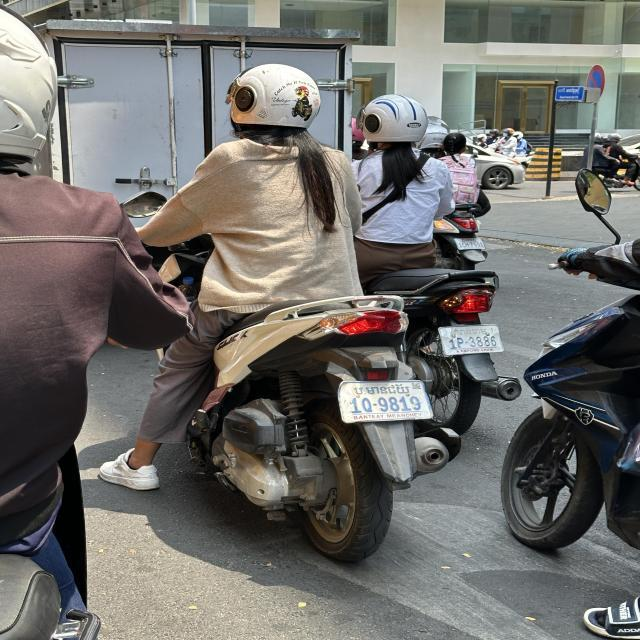Banteay_Meanchey: (351, 383, 411, 397)
Kampong_Cham: (452, 327, 489, 336)
